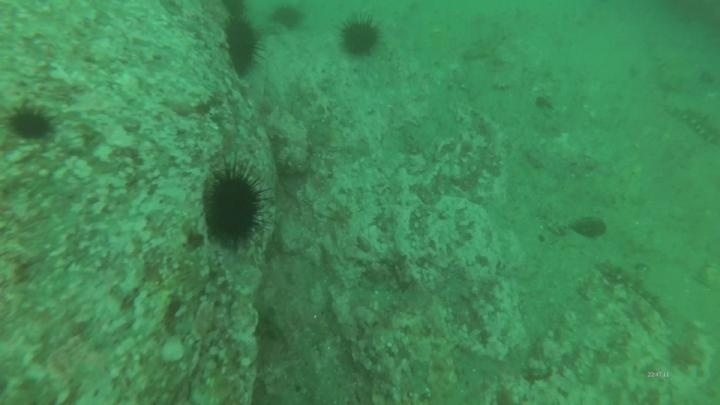echinus: (199, 162, 268, 249), (221, 16, 264, 77), (337, 15, 383, 59), (6, 104, 56, 142), (268, 4, 308, 33), (218, 1, 250, 20)
holothurian: (595, 259, 668, 319), (664, 99, 720, 147)
